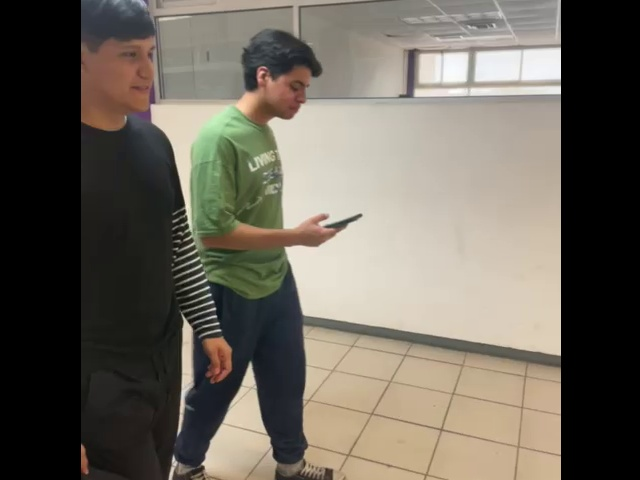mixto2: (318, 209, 363, 235)
